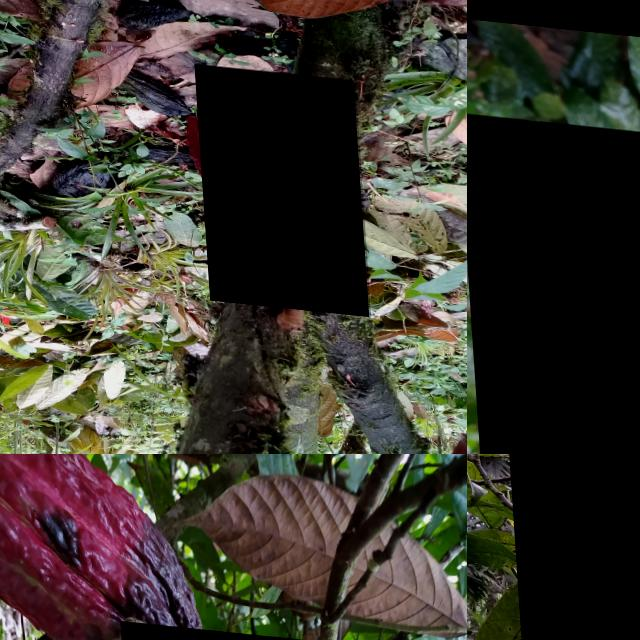Fitoftora: (192, 58, 365, 308), (0, 454, 204, 640), (507, 454, 640, 640)
Monilia: (467, 108, 640, 454)
